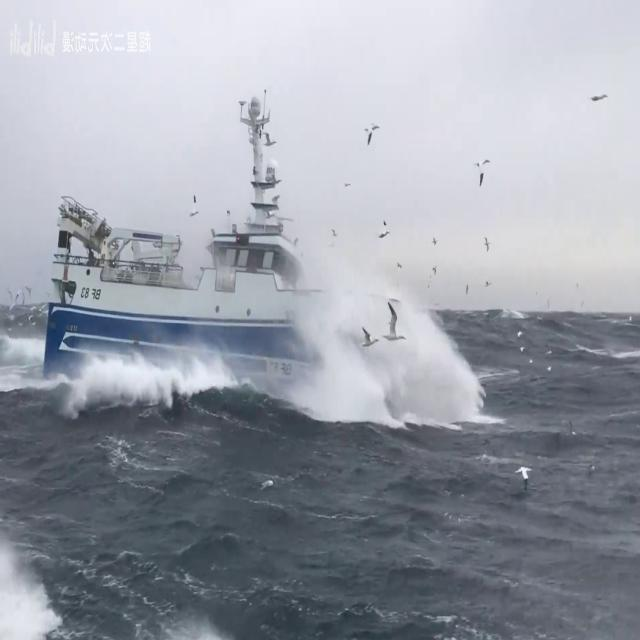houseboat: (46, 98, 412, 406)
